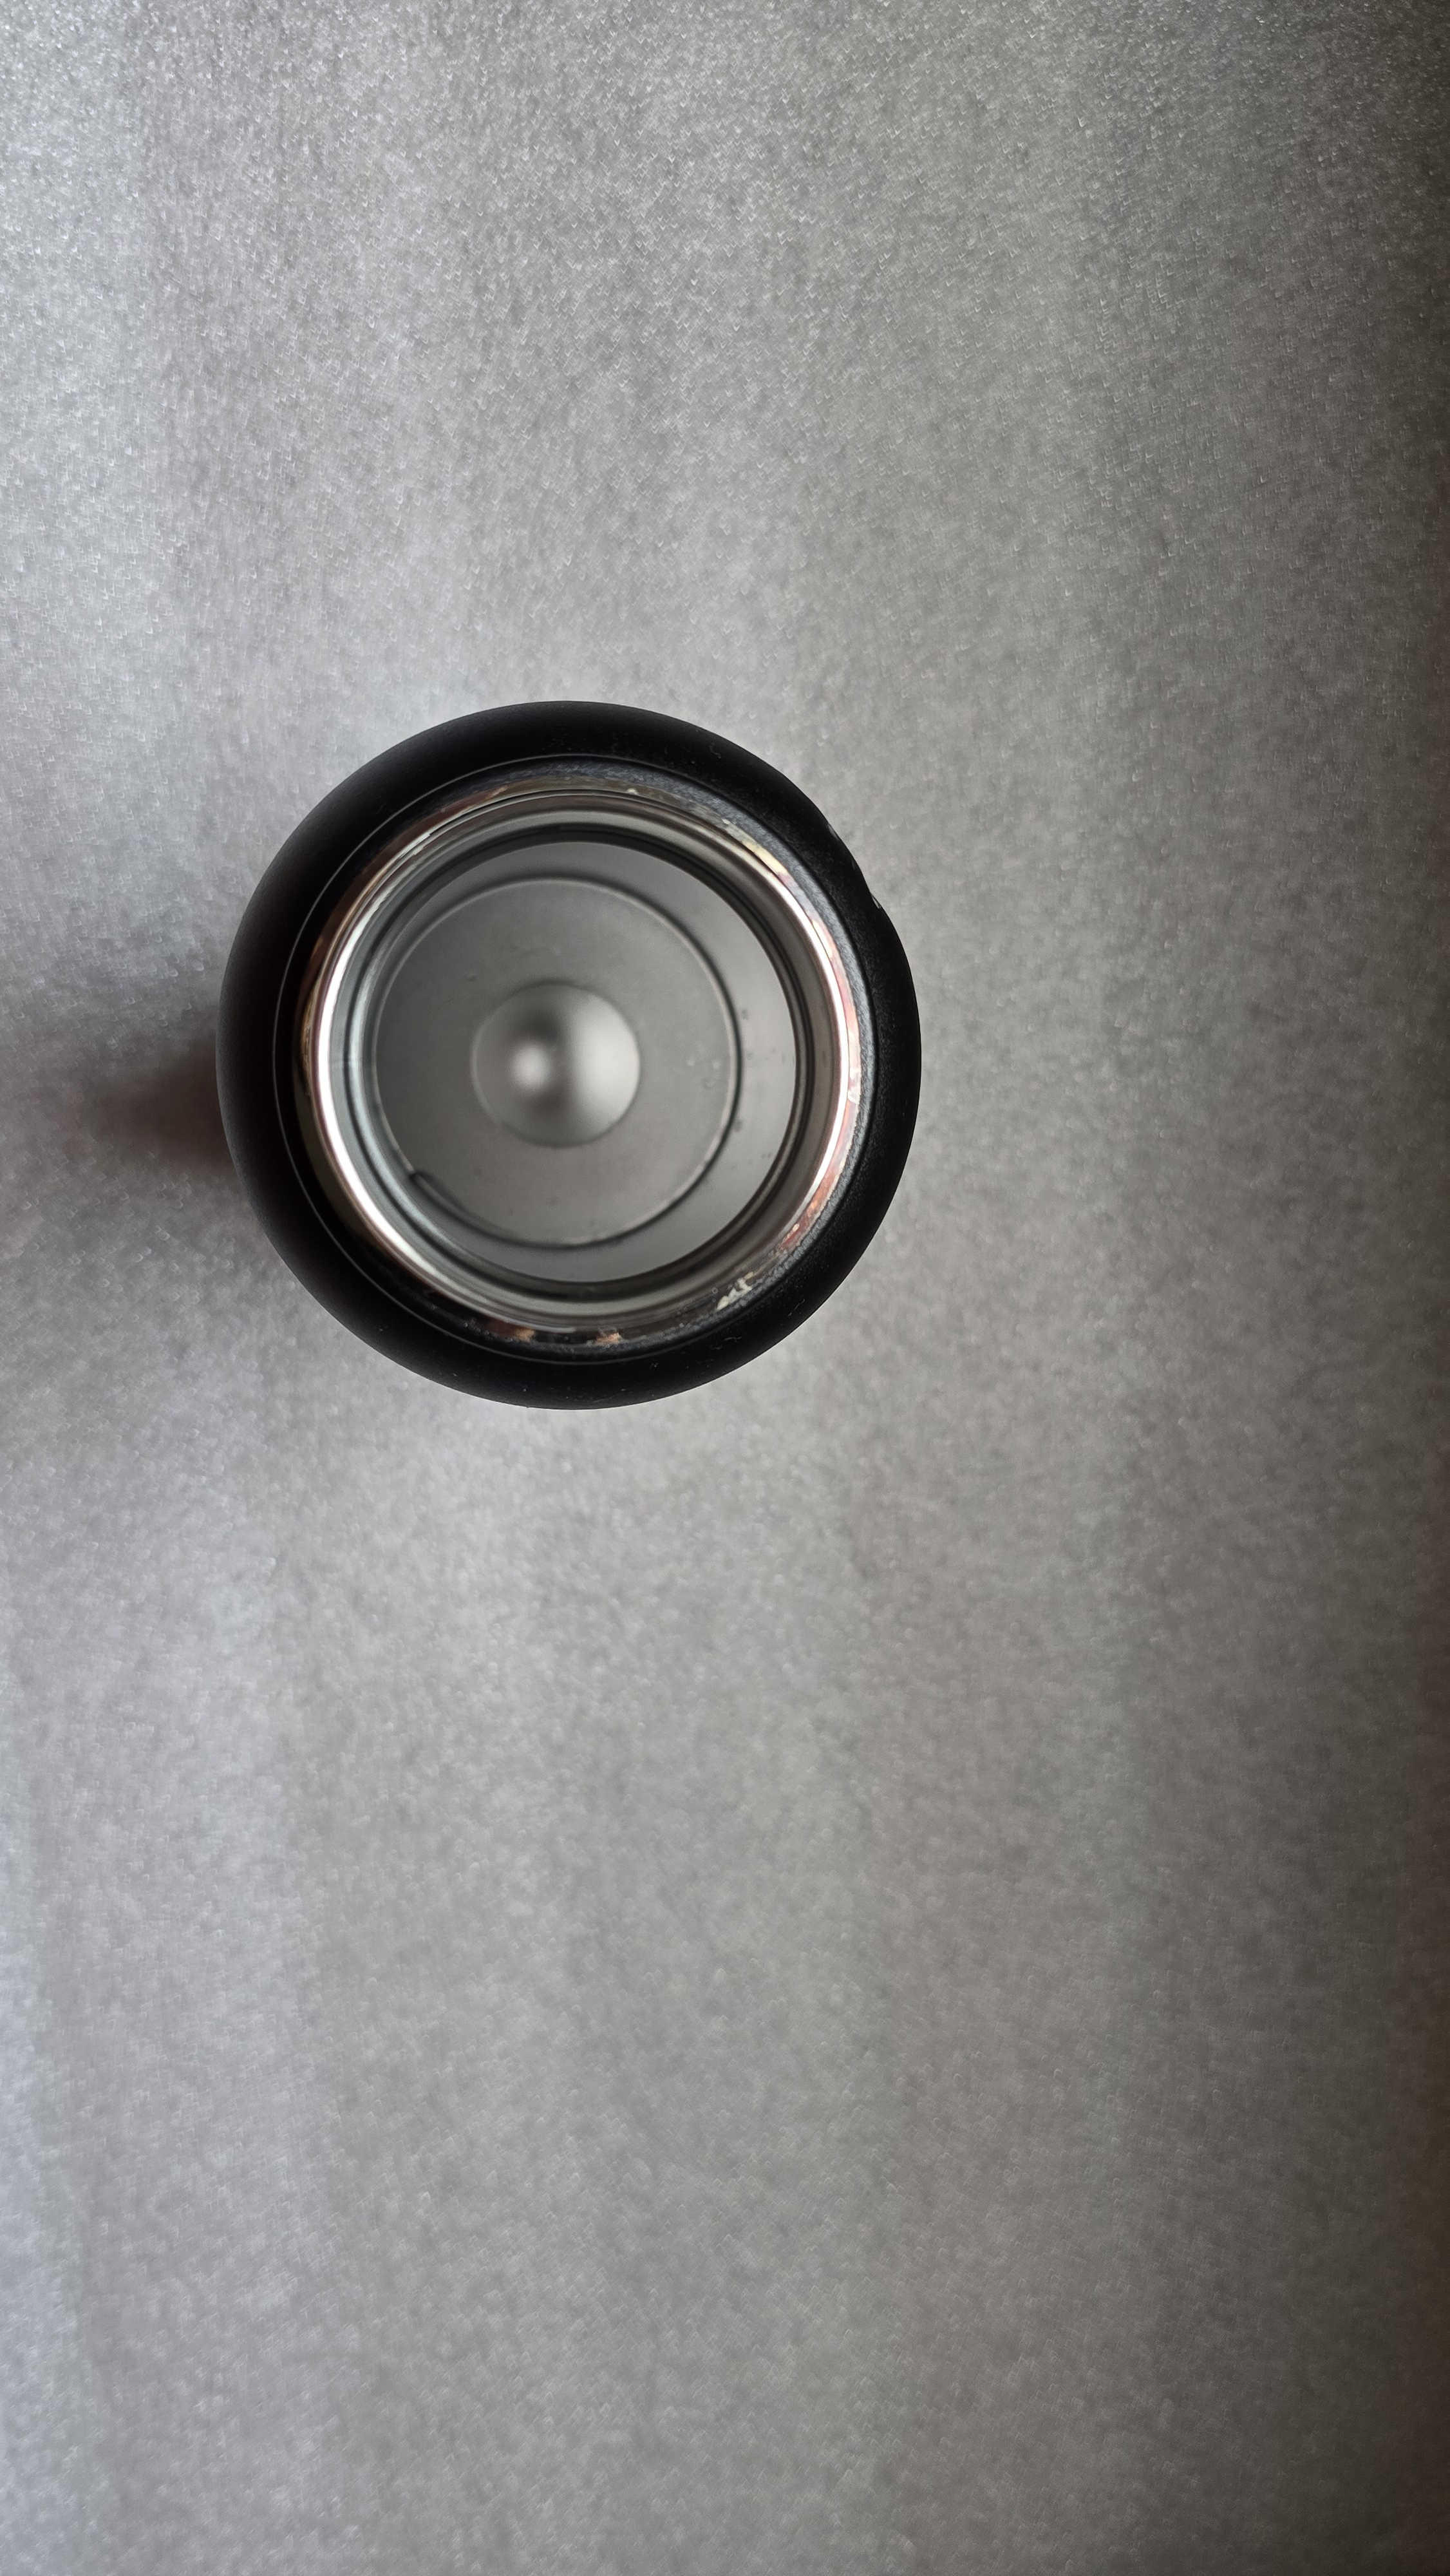bottle: (173, 663, 988, 1422)
